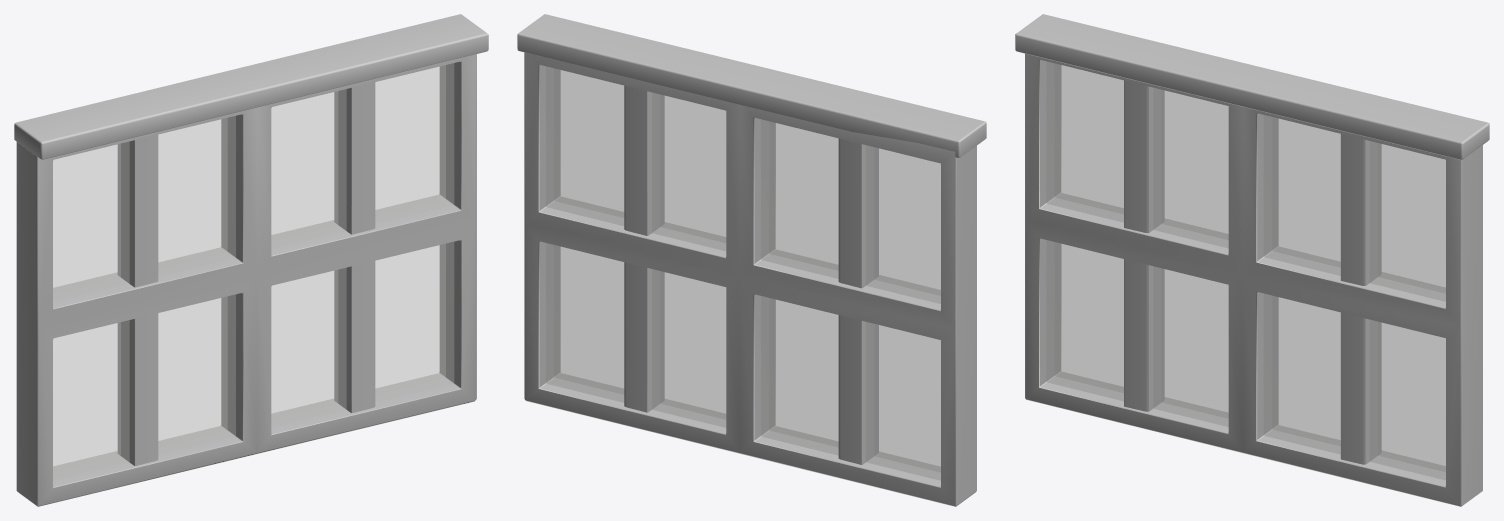
The model's file is Wall_50.fbx.
3 renders of one model, left to right at view 1: azimuth 30°, elevation 25°; view 2: azimuth 150°, elevation 25°; view 3: azimuth 330°, elevation 25°, orthographic.
Parts seen in each view (by area): view 1: Wall_50; view 2: Wall_50; view 3: Wall_50.
Boxes of the visible parts, box(x1,y1,x2,y2) form: Wall_50: box(14, 14, 488, 506); Wall_50: box(517, 14, 986, 506); Wall_50: box(1015, 14, 1489, 506).
Bounding box in the file's own units: 468 × 370 × 52.51.
